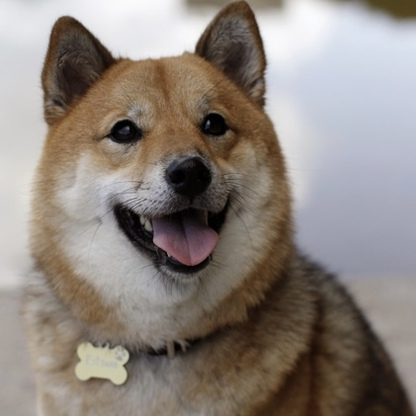shiba: (17, 1, 412, 416)
